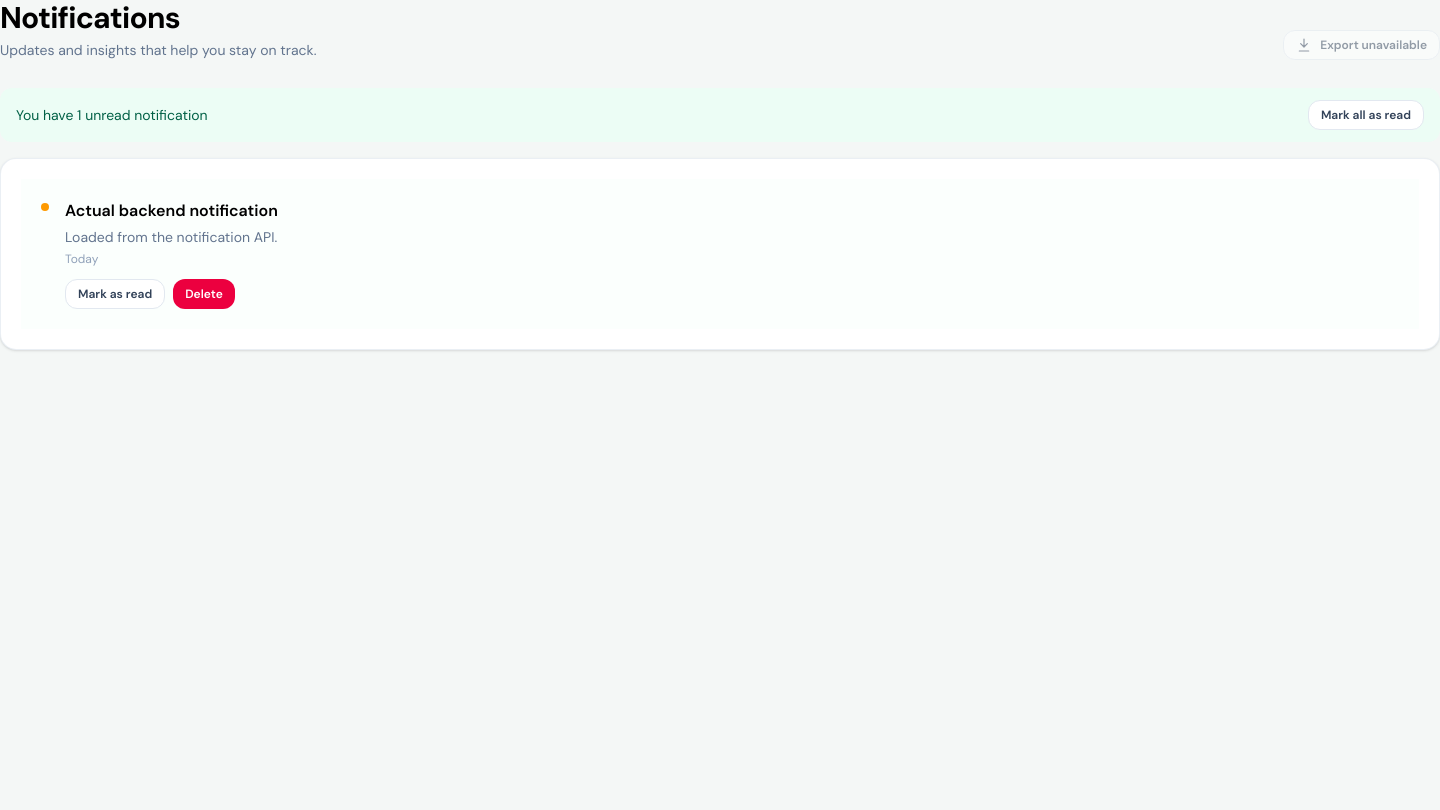
Scenario: ClientNotifications › confirms deletion before removing the notification
Click the button named "delete notification: actual backend notification": (204, 294) x1=173 y1=279 x2=235 y2=309
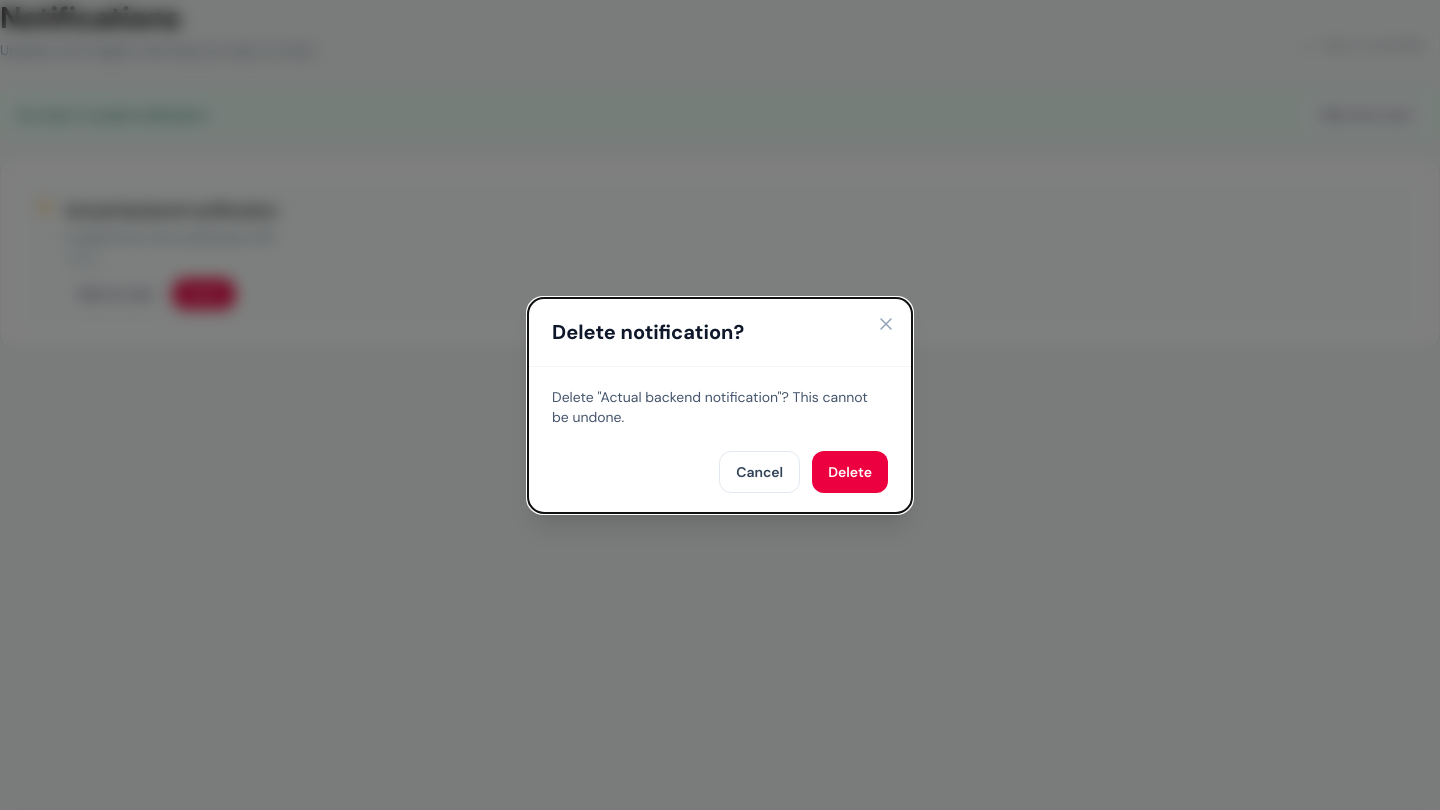
Now the text "Delete \"Actual backend notification\"? This cannot be undone." is shown, box x1=552 y1=386 x2=888 y2=426
Click the button "Delete": (850, 472) x1=812 y1=450 x2=888 y2=492
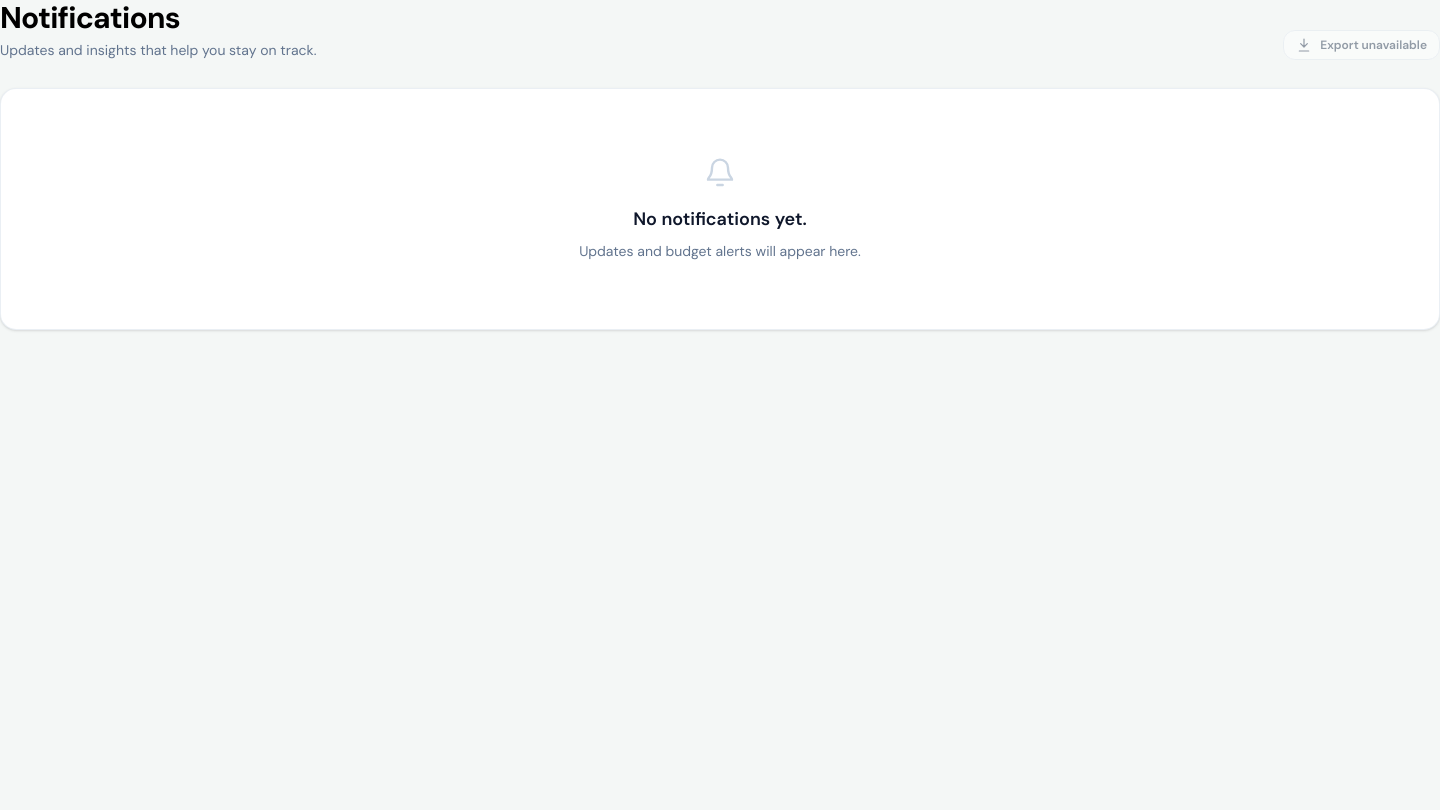
Now the text "Actual backend notification" is gone
Now the text "You have 1 unread notification" is gone
